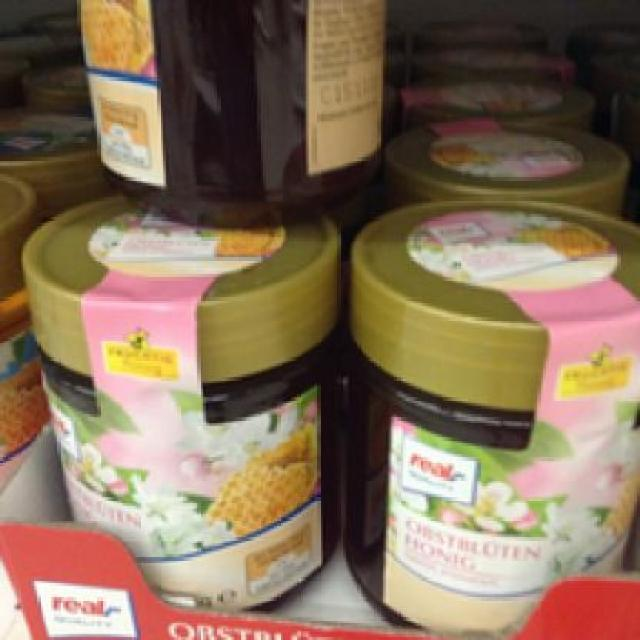Honey: (14, 183, 343, 623), (352, 192, 634, 638)
